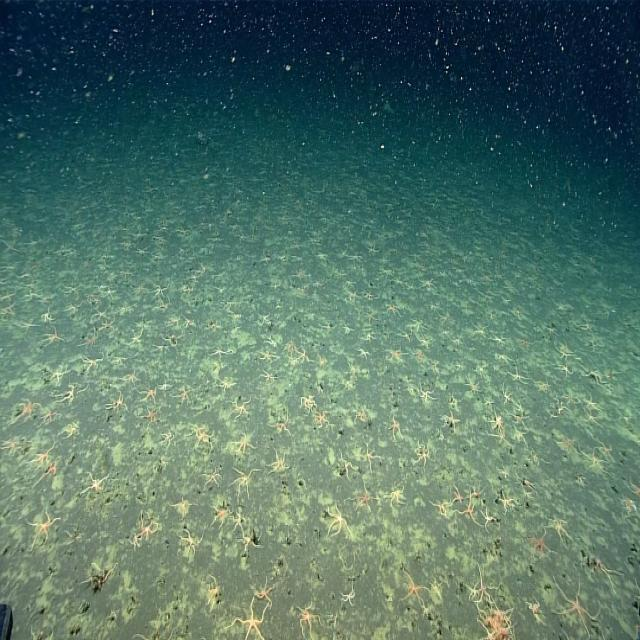brittle-stars: (560, 586, 592, 635), (234, 597, 266, 640), (26, 514, 56, 548), (524, 596, 550, 628), (294, 602, 319, 635), (471, 566, 493, 603), (354, 485, 378, 516), (327, 502, 347, 538), (402, 572, 423, 605), (530, 527, 551, 558), (206, 573, 223, 611), (337, 449, 356, 483), (232, 468, 252, 500), (582, 446, 604, 475), (180, 527, 200, 558), (138, 513, 158, 543), (386, 484, 408, 511), (461, 493, 478, 526), (252, 580, 272, 608), (270, 447, 288, 477), (584, 366, 606, 390), (559, 433, 579, 459), (211, 503, 229, 530), (361, 444, 379, 471), (442, 409, 460, 434), (202, 468, 222, 490), (270, 414, 290, 436), (231, 507, 246, 536), (418, 383, 438, 404), (508, 366, 527, 388), (18, 398, 36, 421), (480, 506, 497, 530), (230, 398, 250, 418), (86, 472, 104, 494), (58, 384, 76, 406), (45, 327, 63, 349), (108, 391, 126, 413), (553, 520, 571, 542), (341, 584, 356, 610), (415, 443, 430, 469), (388, 418, 404, 441), (237, 432, 252, 456), (299, 394, 317, 414), (432, 500, 450, 520), (130, 323, 144, 348), (512, 411, 530, 430), (472, 323, 490, 342), (388, 345, 405, 365), (499, 384, 515, 405), (500, 492, 516, 512), (582, 392, 598, 412), (317, 411, 332, 432), (536, 375, 551, 396), (451, 483, 464, 507), (555, 398, 571, 417), (81, 356, 101, 371), (386, 300, 401, 320), (99, 319, 116, 336), (418, 274, 434, 292), (82, 330, 98, 348), (258, 368, 278, 382), (491, 413, 505, 433), (40, 408, 56, 425), (213, 344, 228, 362), (177, 386, 190, 406), (143, 406, 158, 423), (142, 382, 154, 403), (162, 428, 174, 449), (297, 349, 311, 367), (62, 282, 80, 296), (130, 532, 142, 552), (34, 448, 49, 464), (356, 347, 372, 362), (365, 240, 380, 256), (66, 422, 80, 439), (411, 317, 425, 333), (258, 313, 272, 329), (218, 377, 232, 392), (41, 308, 54, 324), (52, 366, 63, 384), (154, 284, 166, 300), (260, 350, 273, 364), (560, 364, 573, 378), (419, 336, 431, 351), (92, 309, 107, 321), (366, 309, 377, 325), (125, 372, 139, 384), (349, 253, 362, 264), (366, 330, 374, 346), (454, 335, 464, 347), (364, 290, 373, 303)
